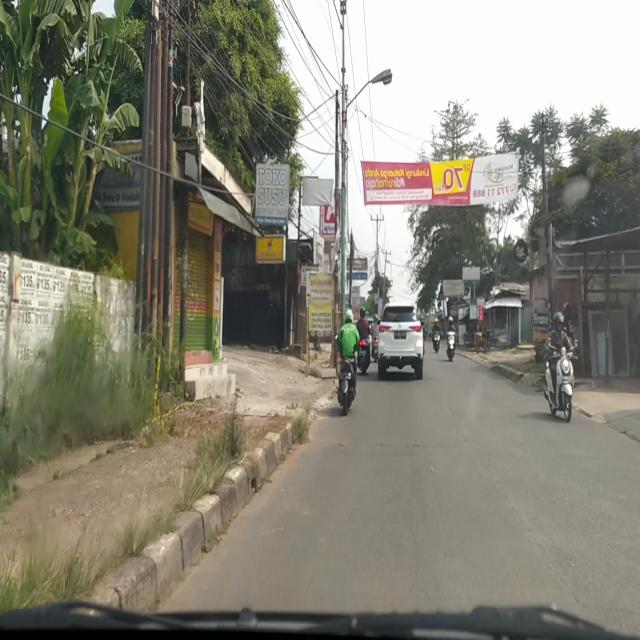Sewer Cover: (336, 438, 466, 451)
